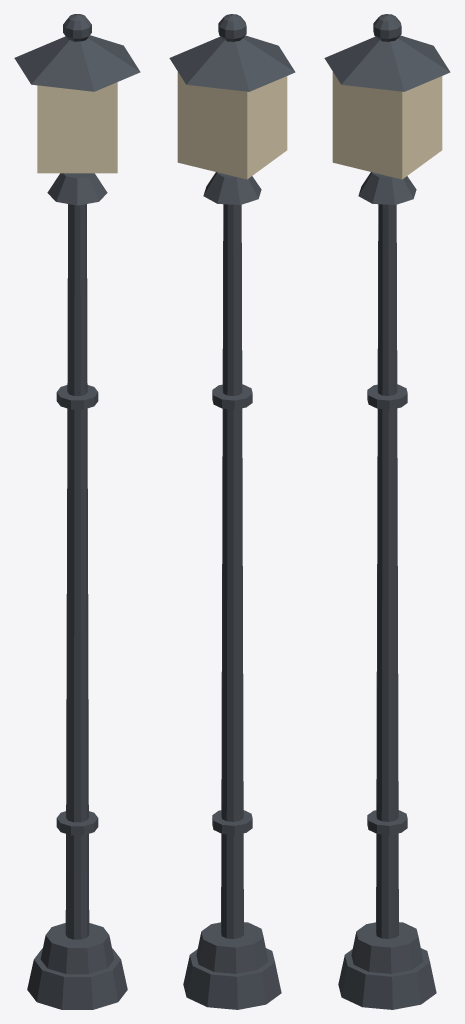
Rendered from park_lamp.glb.
3 renders of one model, left to right at view 1: azimuth 90°, elevation 25°; view 2: azimuth 150°, elevation 25°; view 3: azimuth 330°, elevation 25°, orthographic.
Visible parts, largest first — view 1: ParkLamp_Body, ParkLamp_Lantern; view 2: ParkLamp_Body, ParkLamp_Lantern; view 3: ParkLamp_Body, ParkLamp_Lantern.
Part boxes in pixels (x1,y1,x2,y2): ParkLamp_Body: [14, 14, 140, 1009]; ParkLamp_Lantern: [37, 82, 117, 173]; ParkLamp_Body: [169, 14, 295, 1009]; ParkLamp_Lantern: [177, 71, 287, 179]; ParkLamp_Body: [324, 14, 450, 1009]; ParkLamp_Lantern: [332, 71, 442, 179].
Size of the model in its own units: 0.0377 by 0.3205 by 0.0377.
